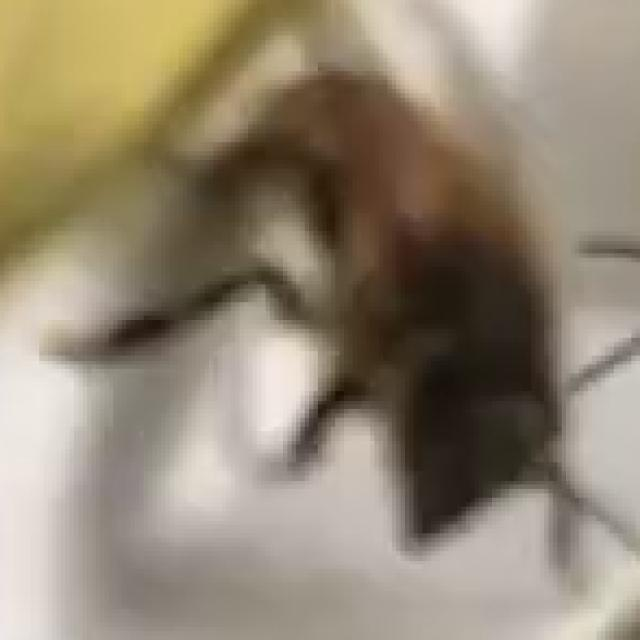honeybee: (36, 21, 632, 618)
